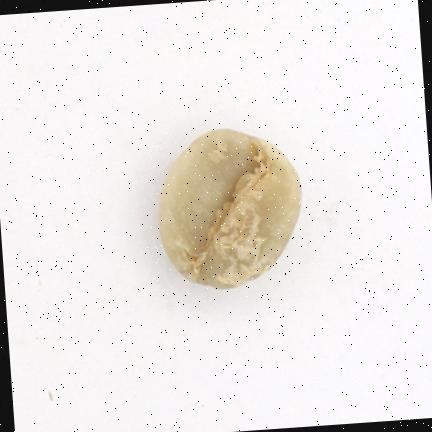immature: (160, 128, 301, 288)
